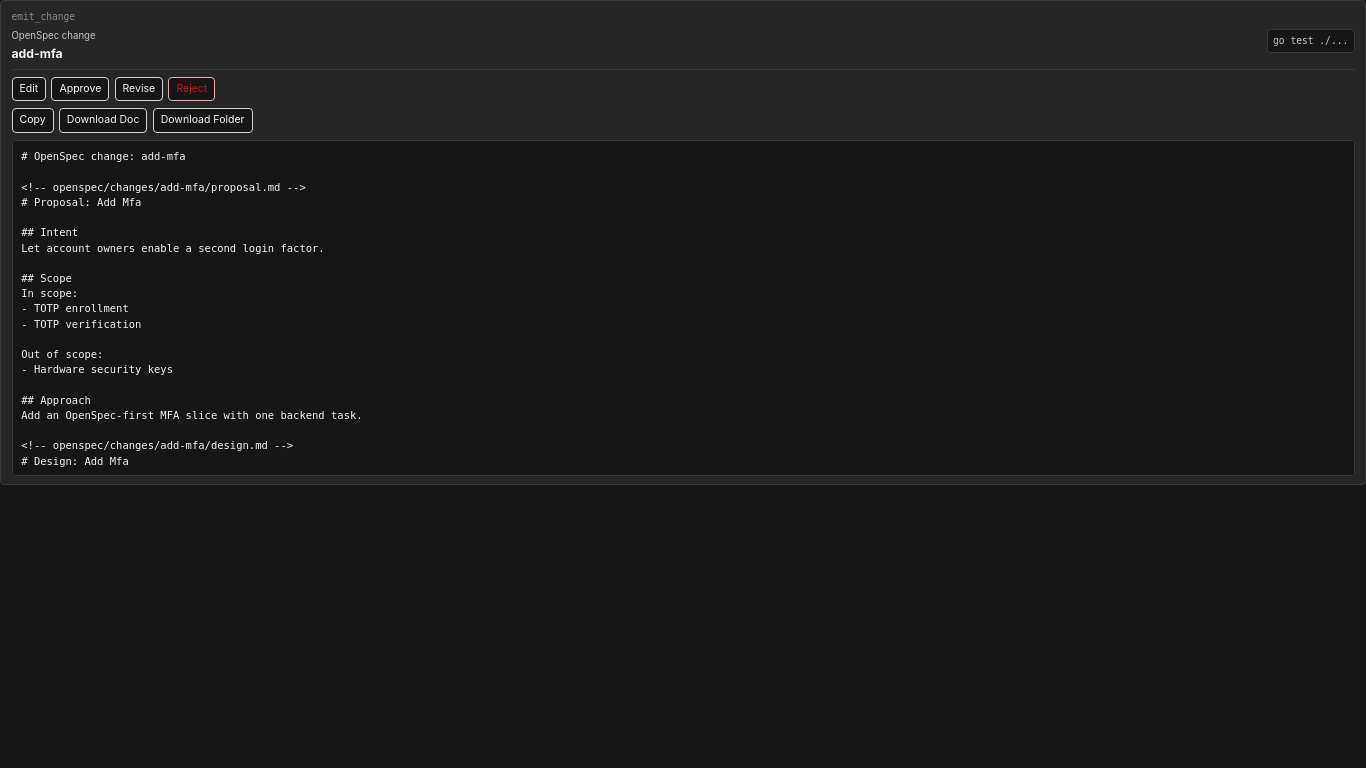
it: ArtifactCard › records approve, request-revision, and reject review decisions
The width and height of the screenshot is (1366, 768).
Click the button with test id "openspec-approve" at (80, 89), box [52,76,109,101]
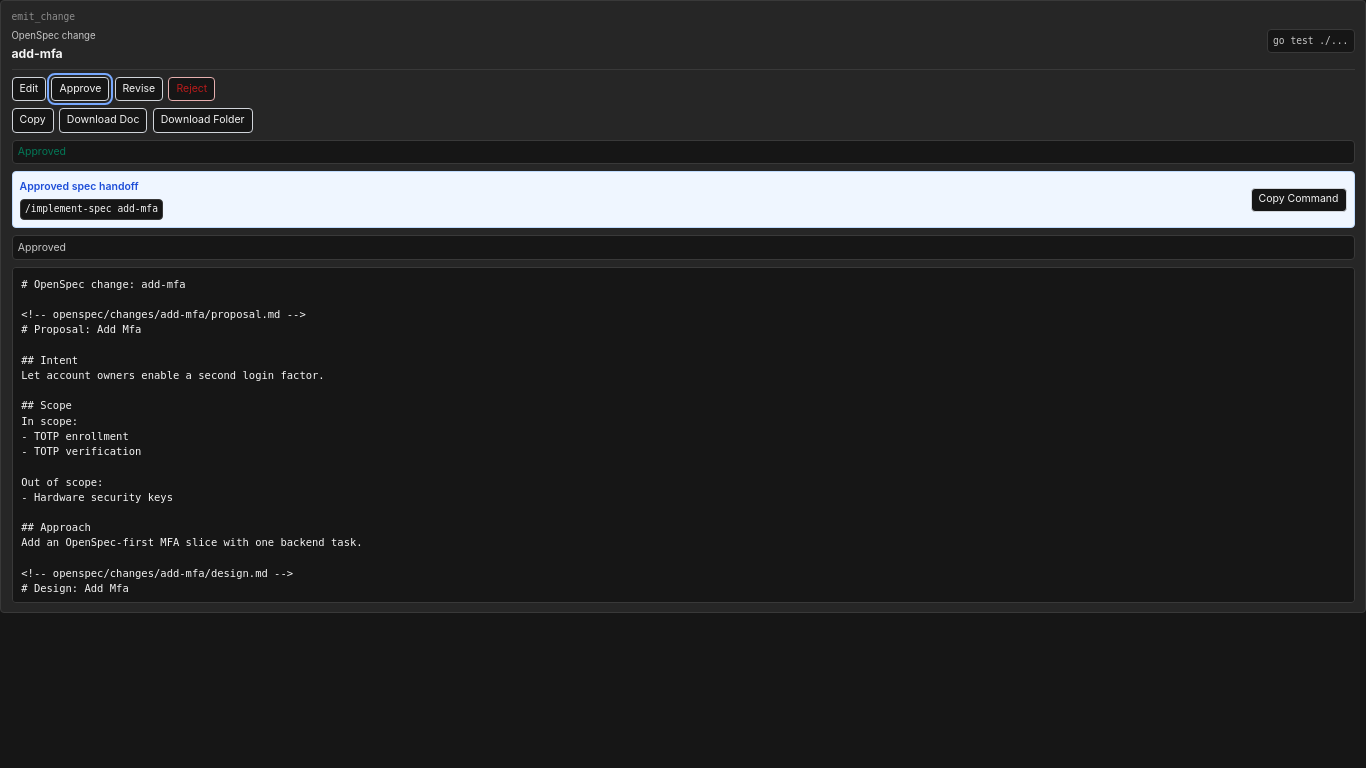
Now the text with test id "openspec-review-state" reads "Approved", box [18,145,66,158]
Click the button with test id "openspec-revision" at (139, 89), box [114,76,163,101]
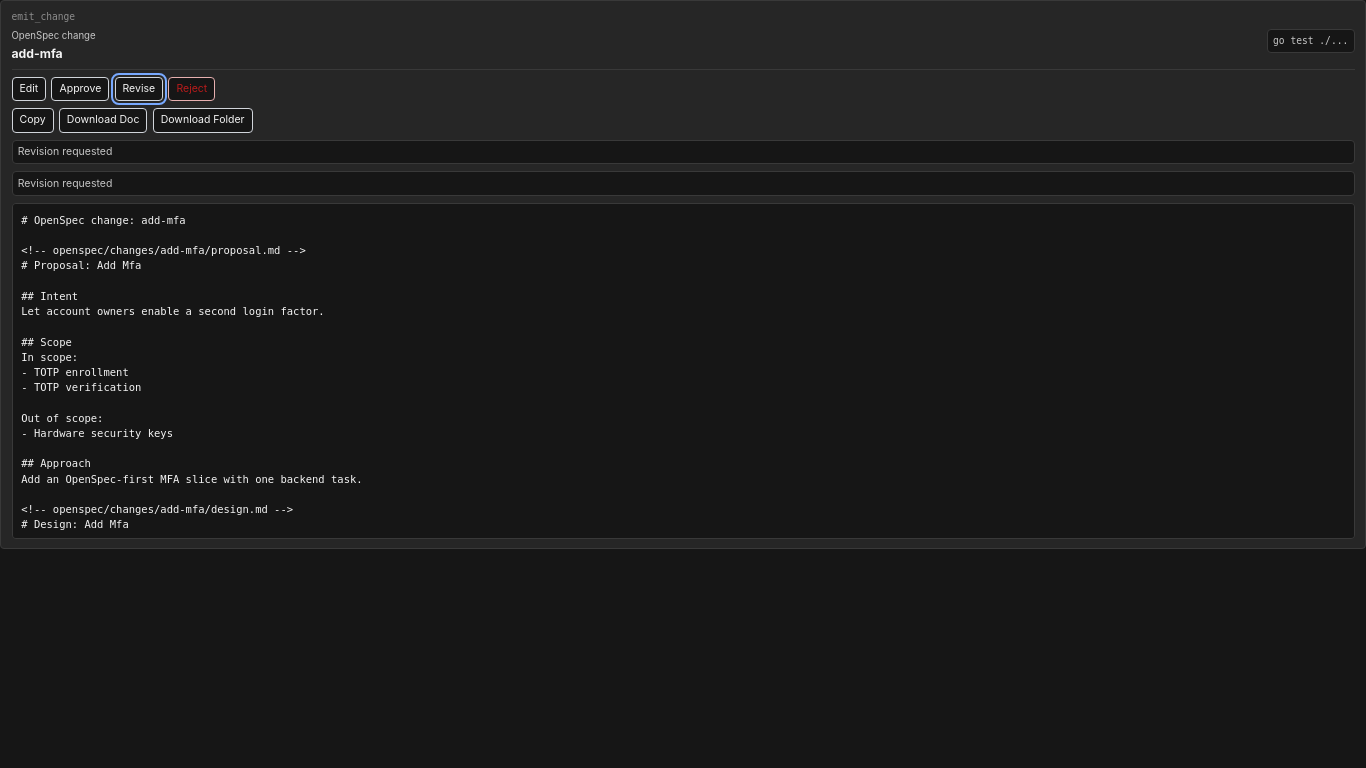
Now the text with test id "openspec-review-state" reads "Revision requested", box [18,145,112,158]
Click the button with test id "openspec-reject" at (192, 89), box [168,76,215,101]
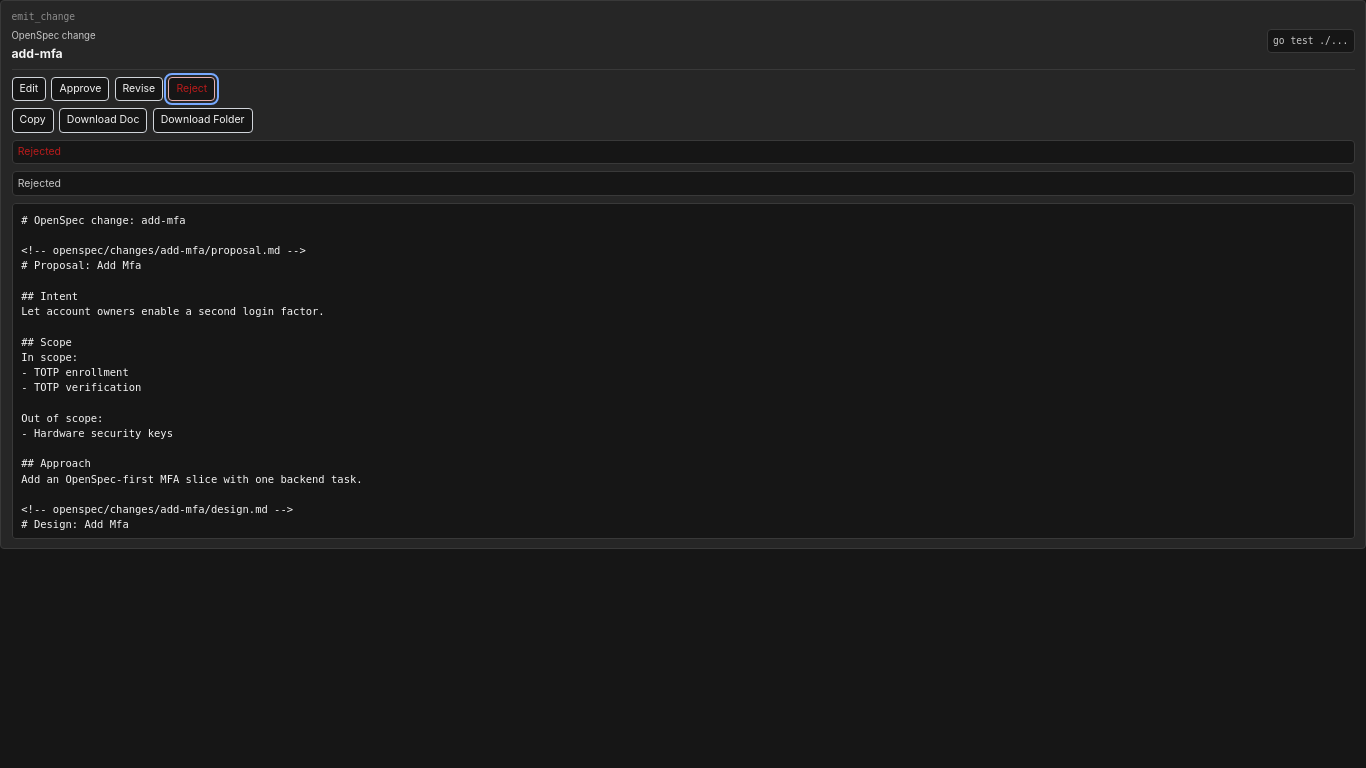
Now the text with test id "openspec-review-state" reads "Rejected", box [18,145,61,158]
